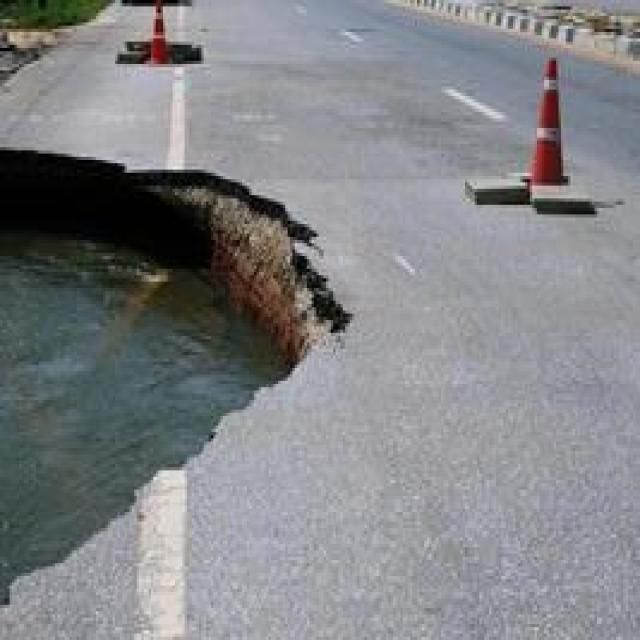road collapse: (0, 73, 431, 636)
